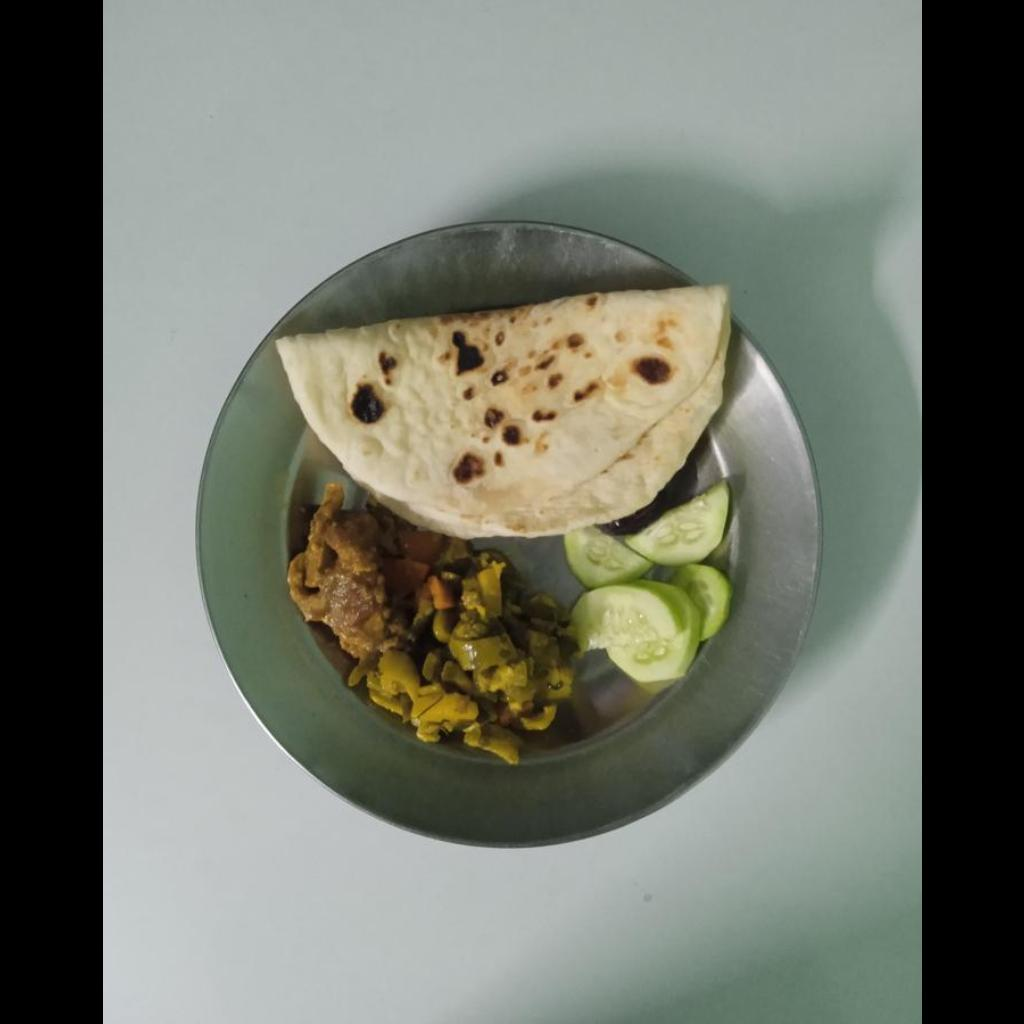chicken: (297, 484, 406, 651)
cucumber: (559, 479, 725, 678)
ruti: (275, 283, 725, 536)
vegetable: (365, 563, 568, 750)
